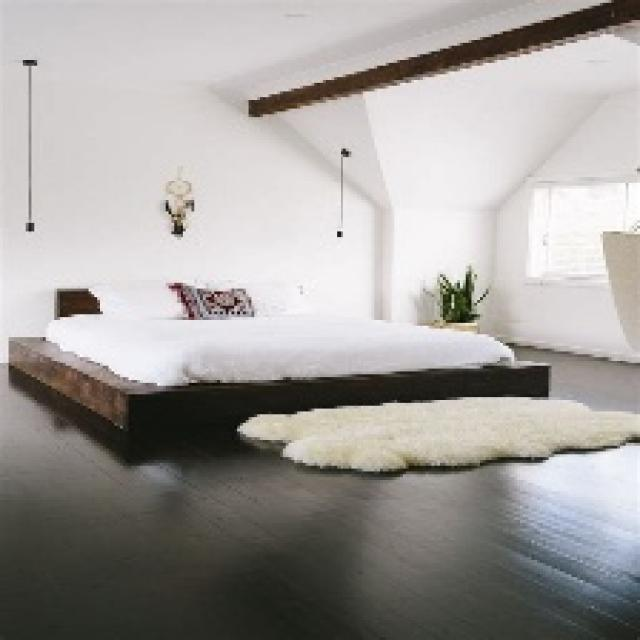Bed: (6, 280, 548, 437)
